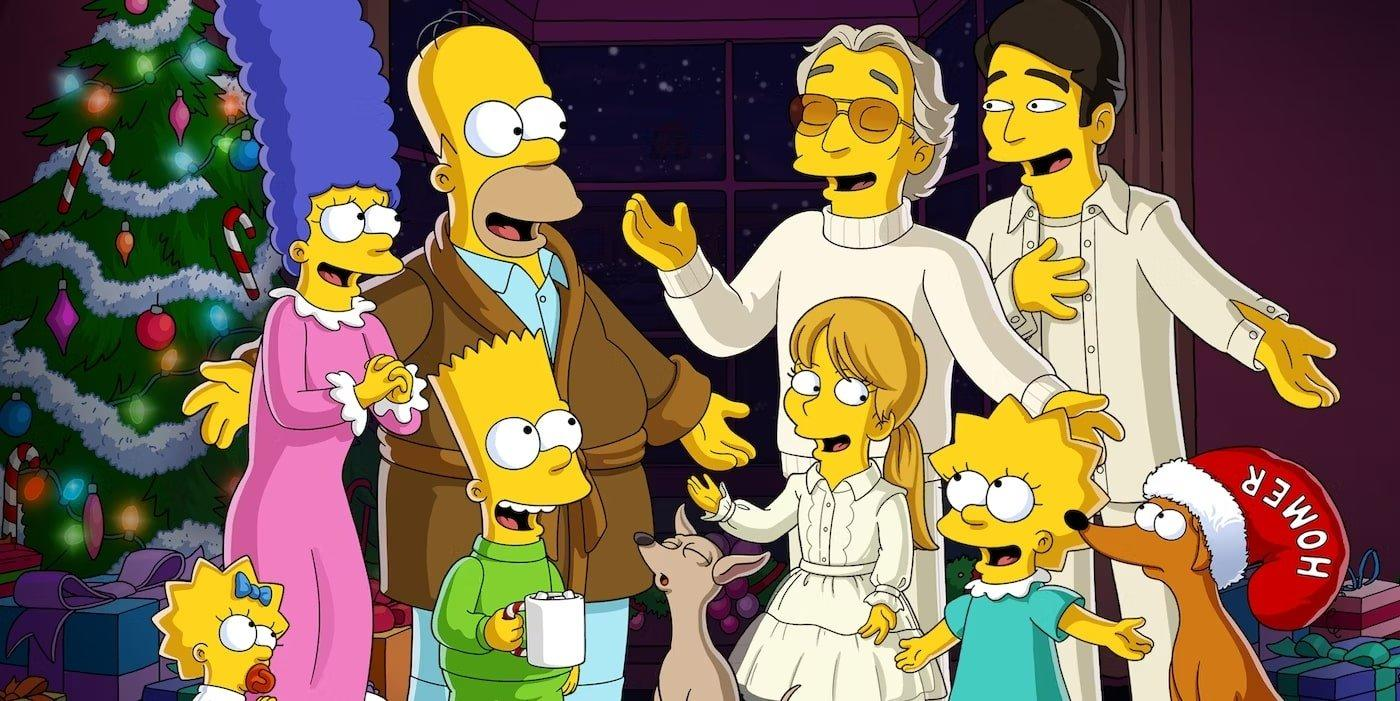Bart: (409, 336, 634, 701)
Homer: (393, 27, 708, 408)
Lisa: (920, 380, 1141, 701)
Maggie: (140, 546, 301, 701)
Marge: (188, 1, 408, 701)
